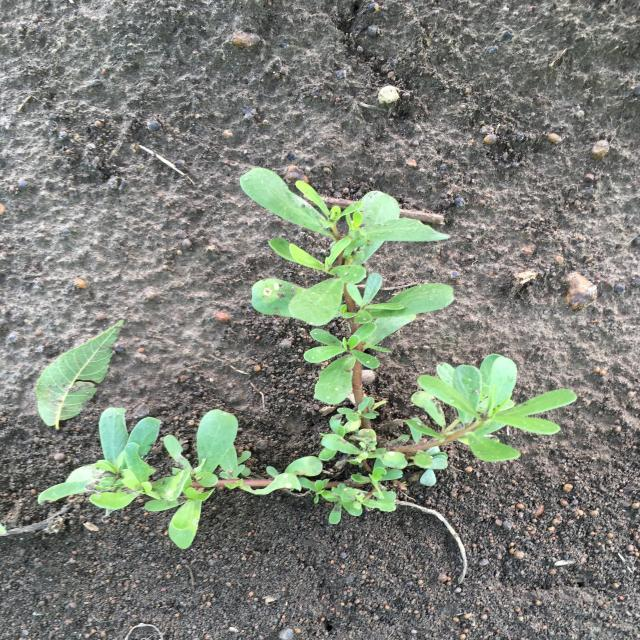Purslane: (38, 167, 577, 549)
